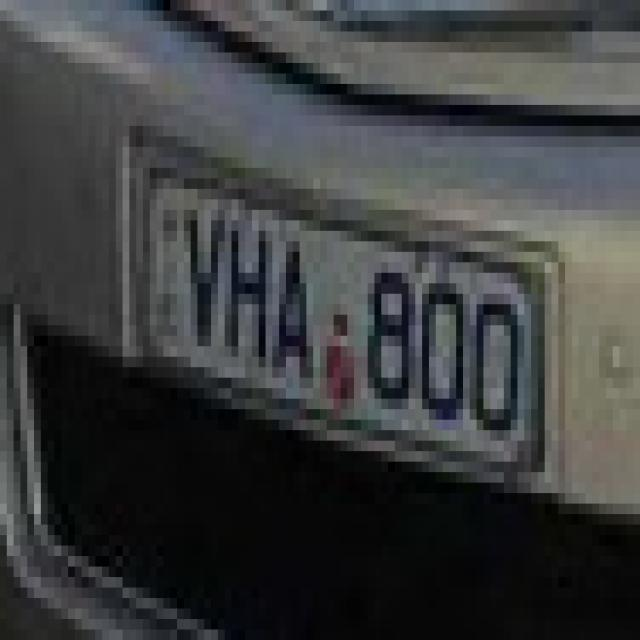0: (468, 269, 532, 448), (419, 257, 474, 443)
8: (360, 251, 422, 434)
A: (274, 205, 320, 424)
H: (224, 196, 274, 377)
V: (177, 196, 225, 379)
